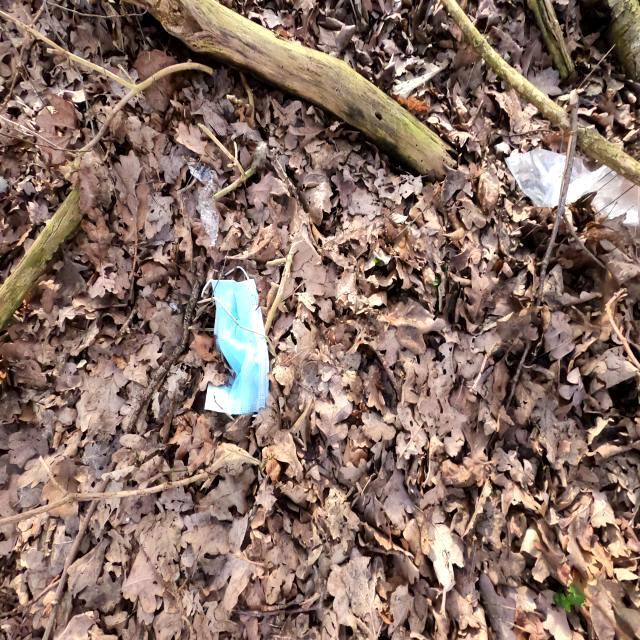Mask: (203, 269, 279, 427)
